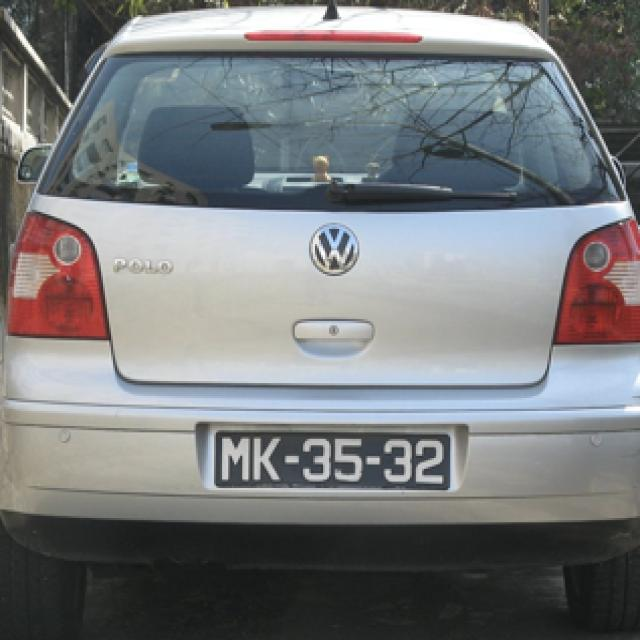license_plate: (214, 432, 452, 494)
